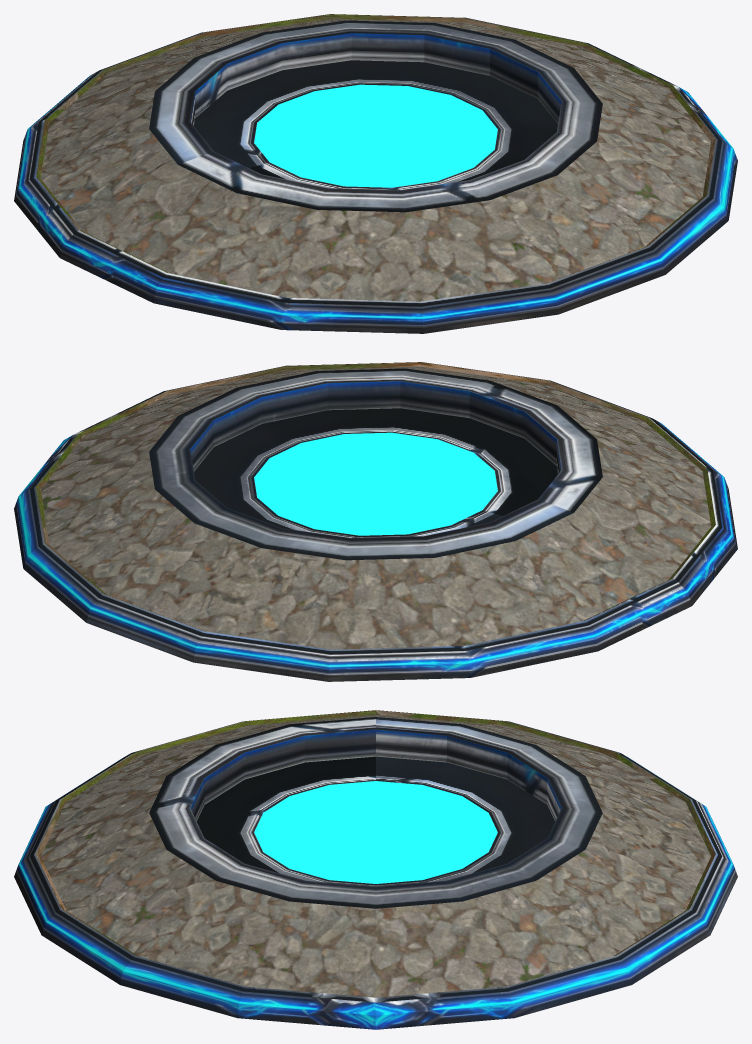
3 renders of one model, top to bottom at view 1: azimuth 30°, elevation 25°; view 2: azimuth 150°, elevation 25°; view 3: azimuth 270°, elevation 25°, orthographic.
Parts seen in each view (by area): view 1: Base.001; view 2: Base.001; view 3: Base.001.
Boxes of the visible parts, box(x1,y1,x2,y2) form: Base.001: box(14, 14, 737, 333); Base.001: box(14, 362, 737, 681); Base.001: box(14, 710, 737, 1029).
Size of the model in its own units: 4.13 by 0.4319 by 4.13.
Materials: 4 (3 with a texture image).
